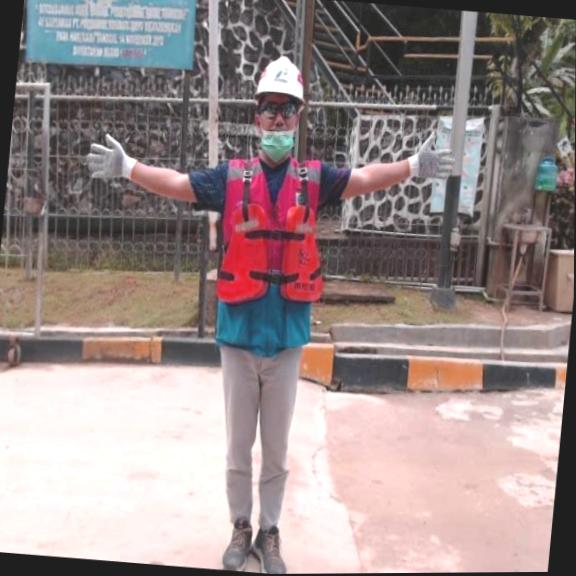safety_vest: (216, 200, 332, 305)
